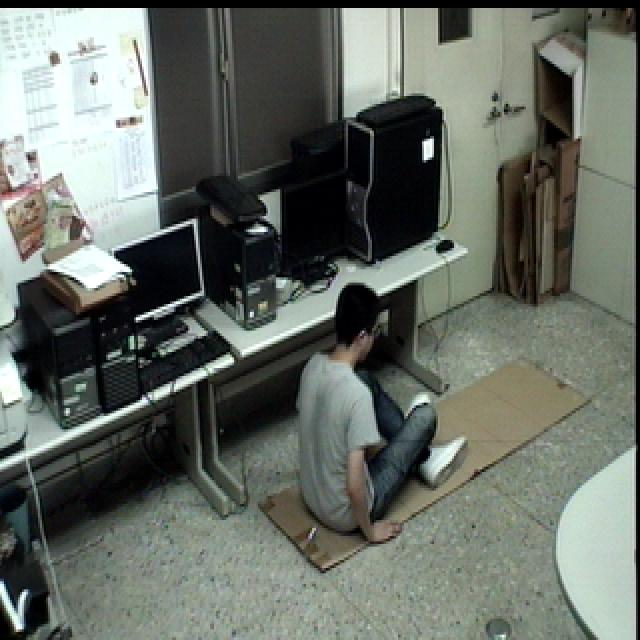sit: (284, 274, 472, 546)
